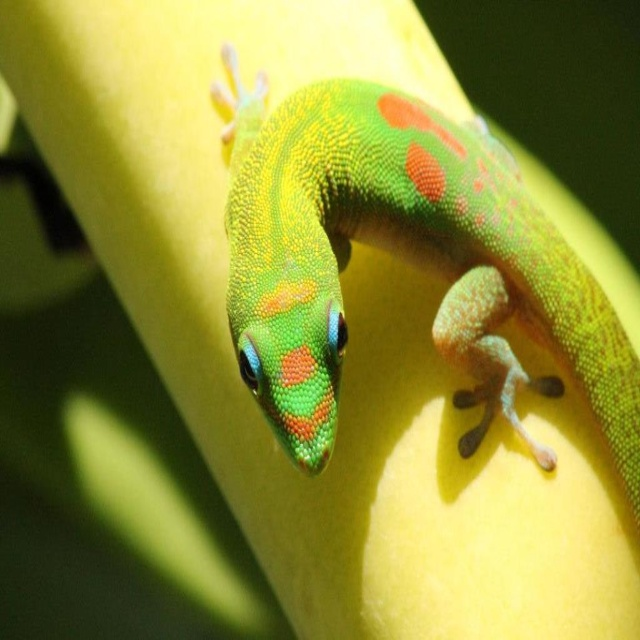Lizard: (208, 41, 640, 536)
